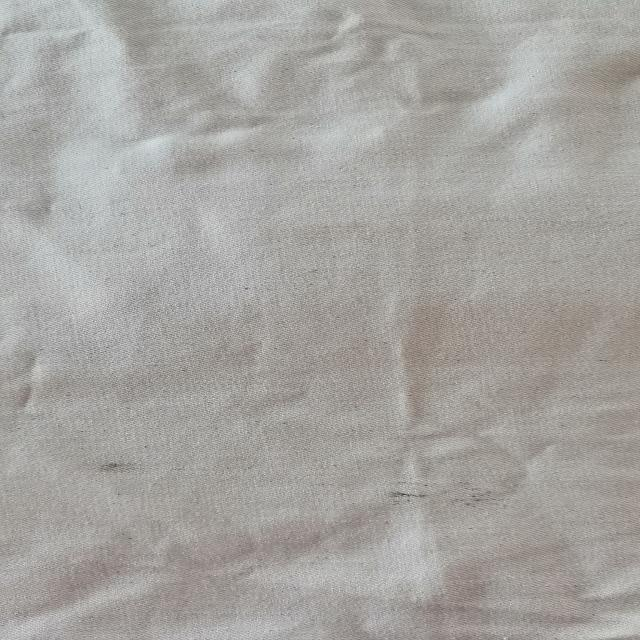taaaches: (352, 470, 513, 517), (68, 448, 161, 488)
